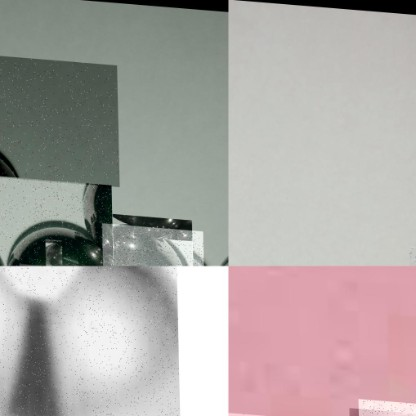ironball: (0, 266, 179, 415), (0, 54, 118, 184), (0, 175, 112, 266), (100, 221, 203, 266)
